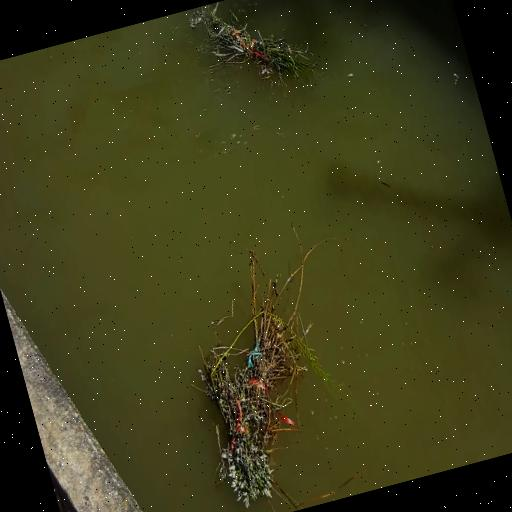twig: (199, 223, 332, 507), (190, 1, 313, 83)
